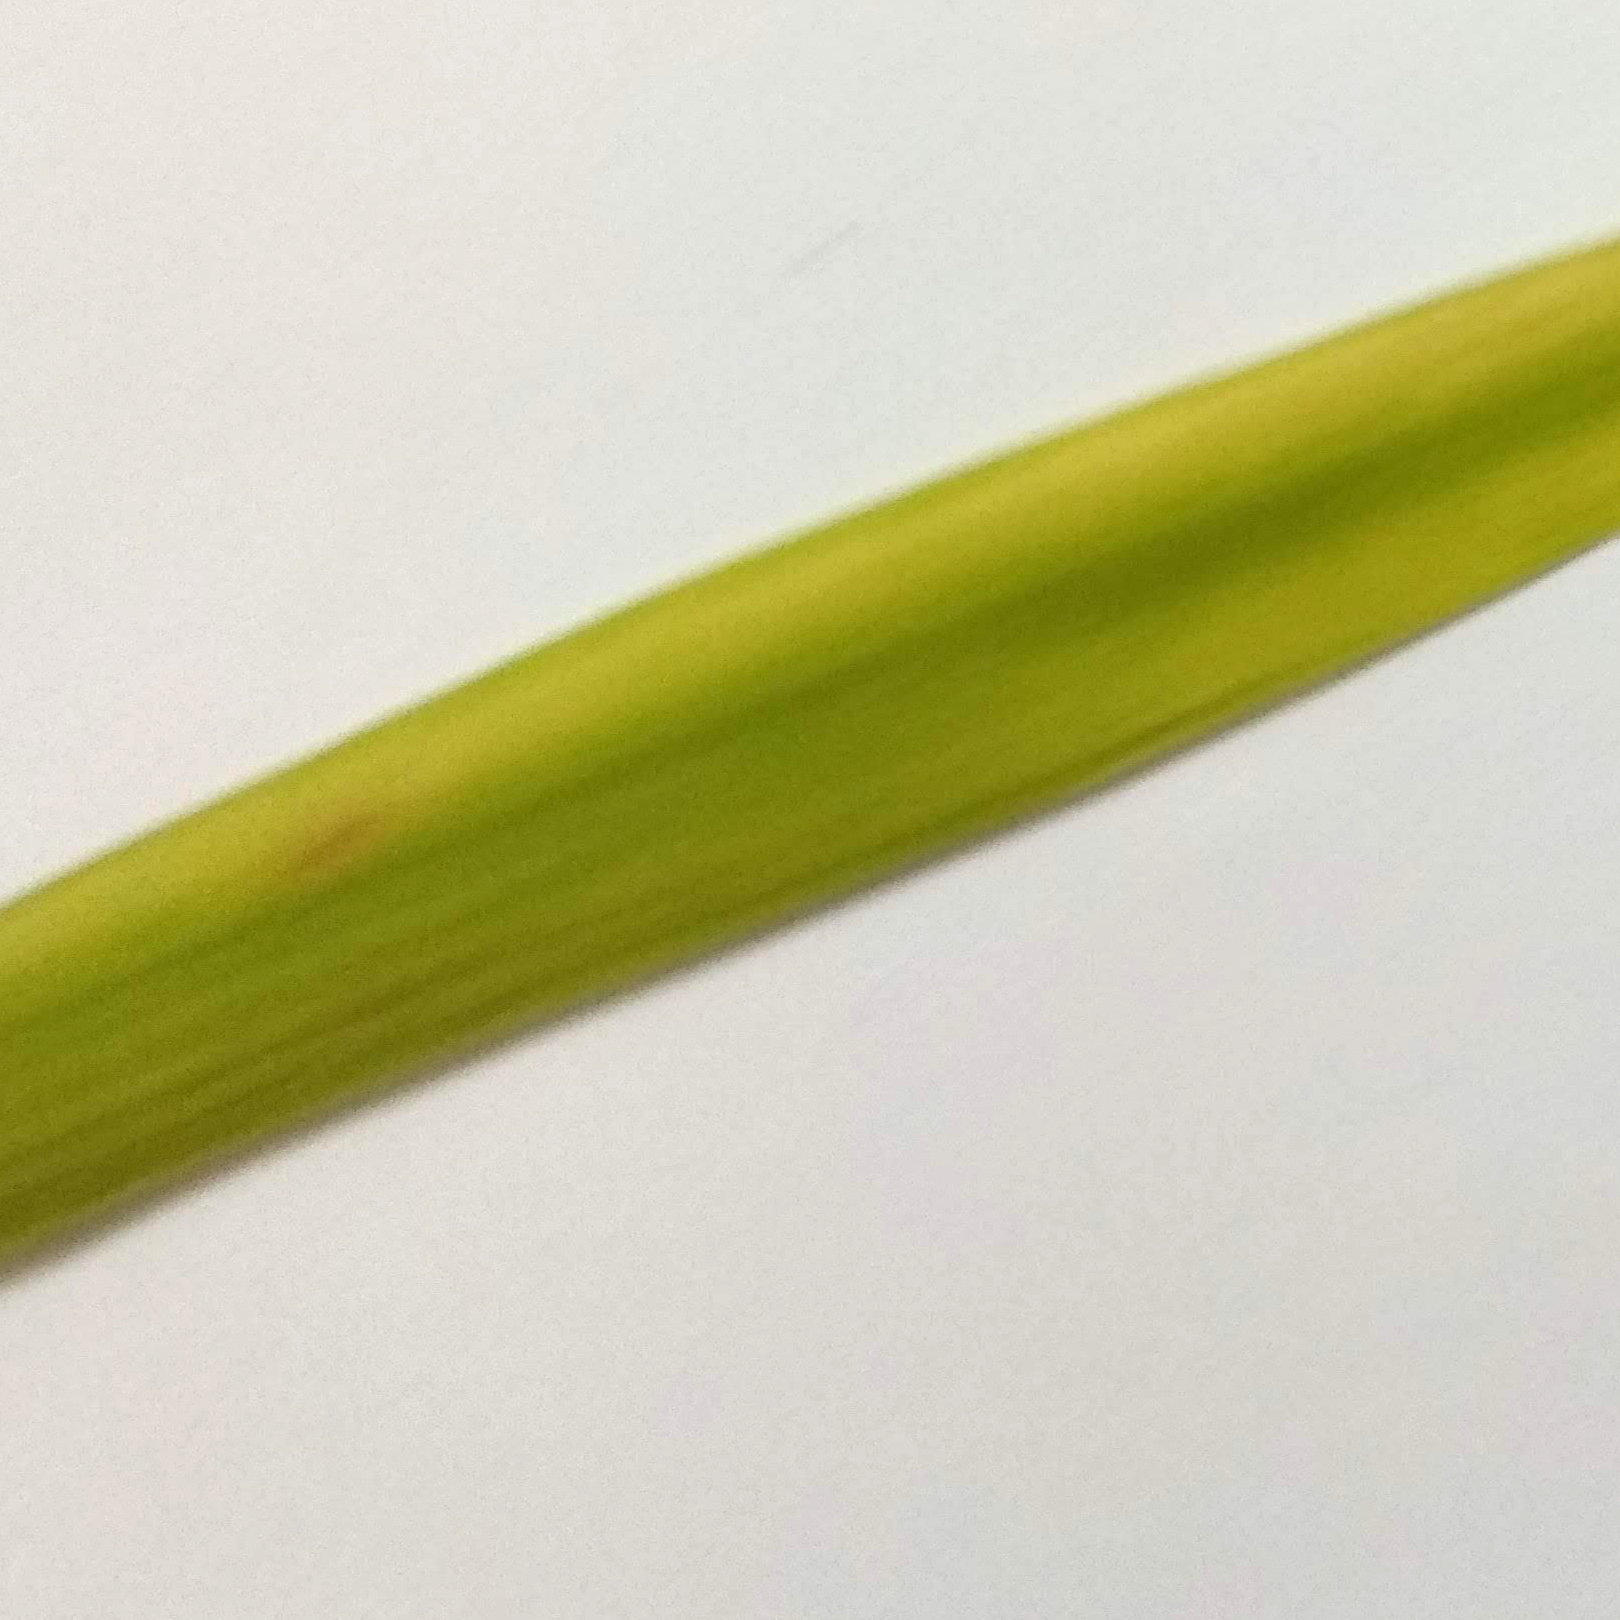brown spot: (280, 804, 378, 895)
